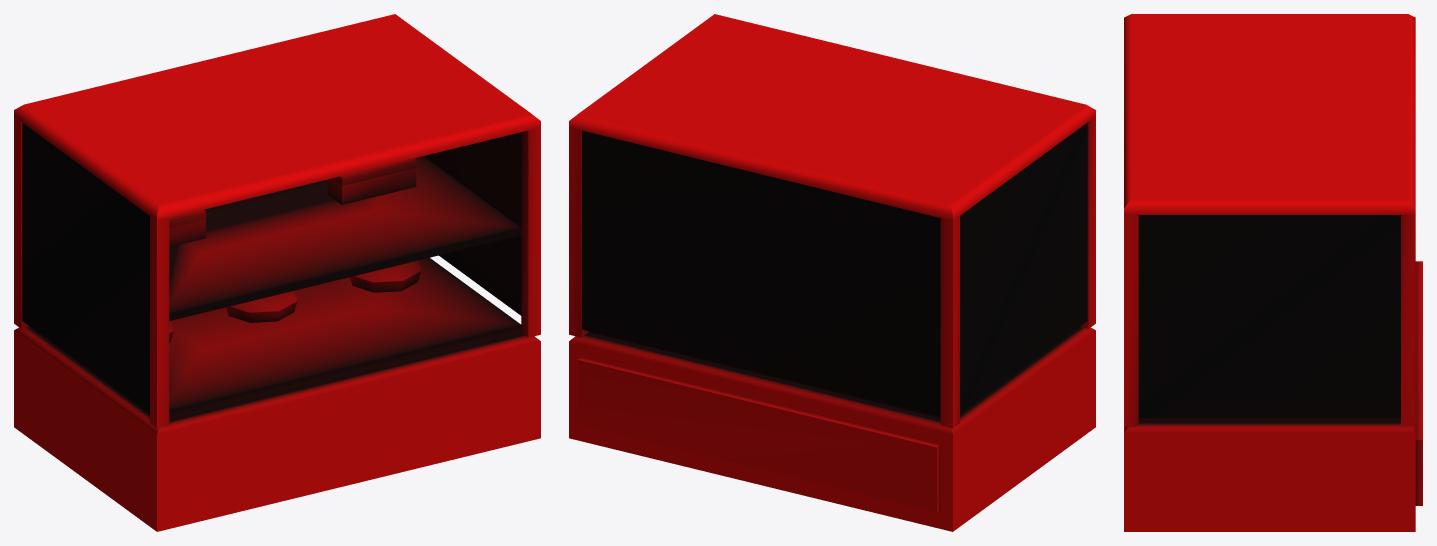
The model's file is CI_Cafe_PastryCase_Small.fbx.
3 renders of one model, left to right at view 1: azimuth 30°, elevation 25°; view 2: azimuth 150°, elevation 25°; view 3: azimuth 270°, elevation 25°, orthographic.
Visible parts, largest first — view 1: CI_Cafe_PastryCase_Small; view 2: CI_Cafe_PastryCase_Small; view 3: CI_Cafe_PastryCase_Small.
Part boxes in pixels (<box>): CI_Cafe_PastryCase_Small: <box>14,14,540,531</box>; CI_Cafe_PastryCase_Small: <box>569,14,1095,531</box>; CI_Cafe_PastryCase_Small: <box>1124,14,1422,531</box>.
Bounding box in the file's own units: 0.62 × 0.5 × 0.41.
